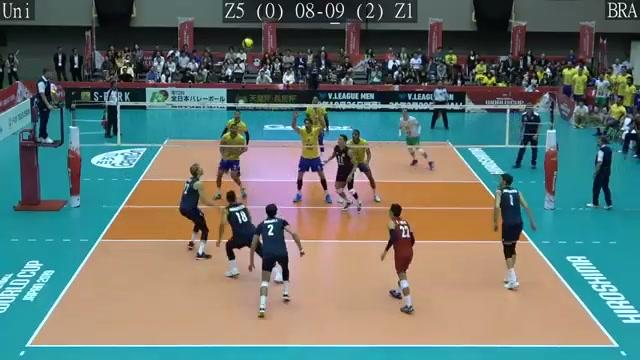ball: (239, 34, 254, 53)
